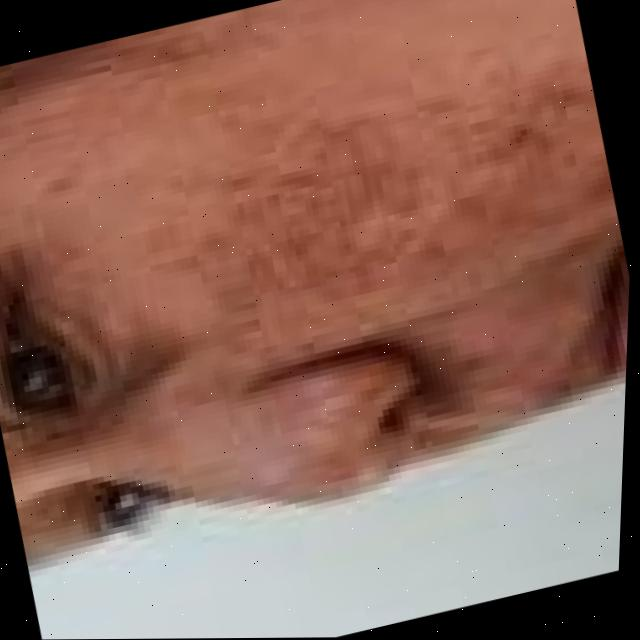Melasma: (174, 65, 617, 288)
